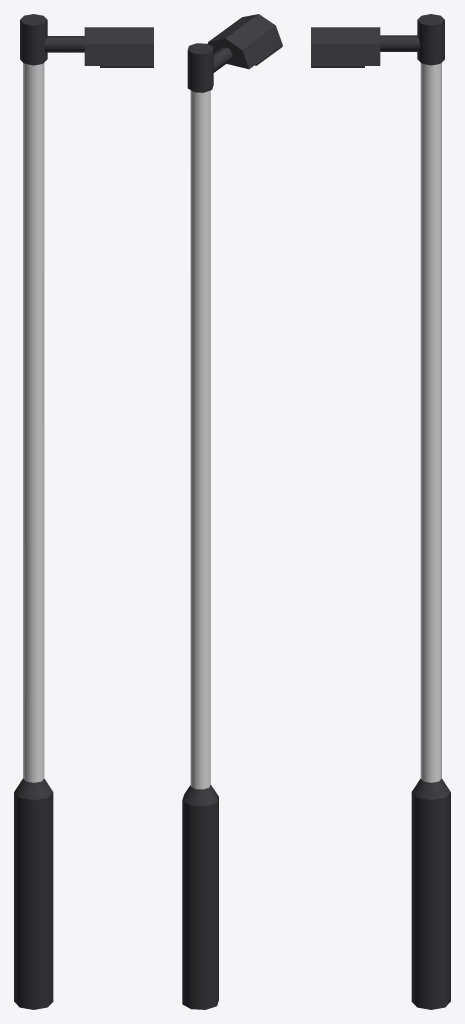
The model's file is StreetLamp2_a_LP_LOD0.FBX.
3 views of the same model, side by side, from view 1: azimuth 90°, elevation 25°; view 2: azimuth 150°, elevation 25°; view 3: azimuth 270°, elevation 25° (orthographic). The views are drawn at different scales.
Visible parts, largest first — view 1: StreetLamp2_a_LP_LOD0; view 2: StreetLamp2_a_LP_LOD0; view 3: StreetLamp2_a_LP_LOD0.
Part boxes in pixels (x1,y1,x2,y2): StreetLamp2_a_LP_LOD0: (14, 14, 153, 1009); StreetLamp2_a_LP_LOD0: (182, 14, 282, 1009); StreetLamp2_a_LP_LOD0: (311, 14, 450, 1009).
Bounding box in the file's own units: 0.5535 × 10.56 × 1.36.
